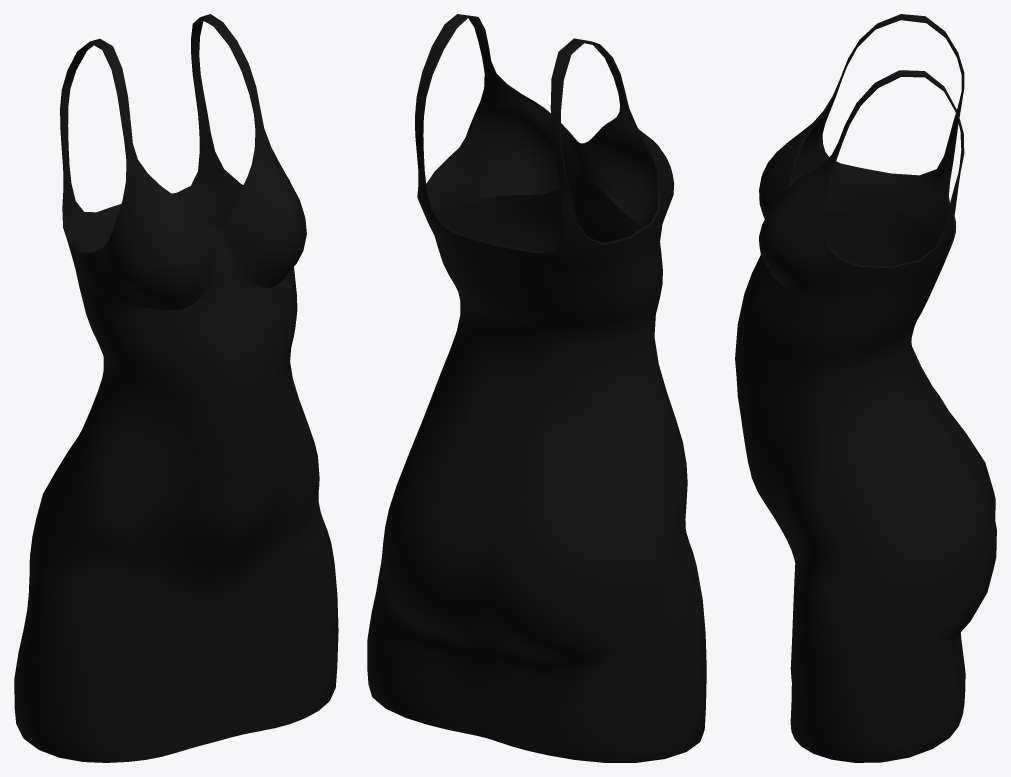
File: girlDress.obj
3 renders of one model, left to right at view 1: azimuth 30°, elevation 25°; view 2: azimuth 150°, elevation 25°; view 3: azimuth 270°, elevation 25°, orthographic. The views are drawn at different scales.
Parts seen in each view (by area): view 1: dress_Mesh.003; view 2: dress_Mesh.003; view 3: dress_Mesh.003.
Part boxes in pixels (x1,y1,x2,y2): dress_Mesh.003: (14,14,338,762); dress_Mesh.003: (367,14,706,762); dress_Mesh.003: (735,14,996,762).
Size of the model in its own units: 0.291 by 0.6187 by 0.2239.
1 material, 1 textured.
